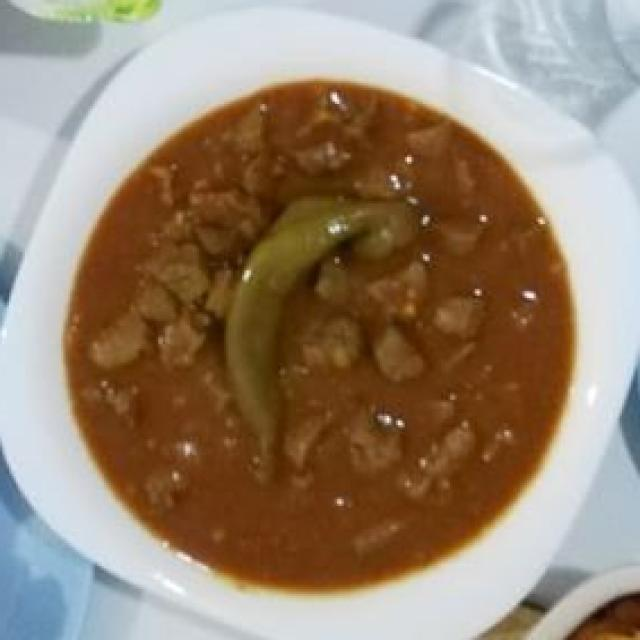kamouniya: (50, 93, 583, 599)
